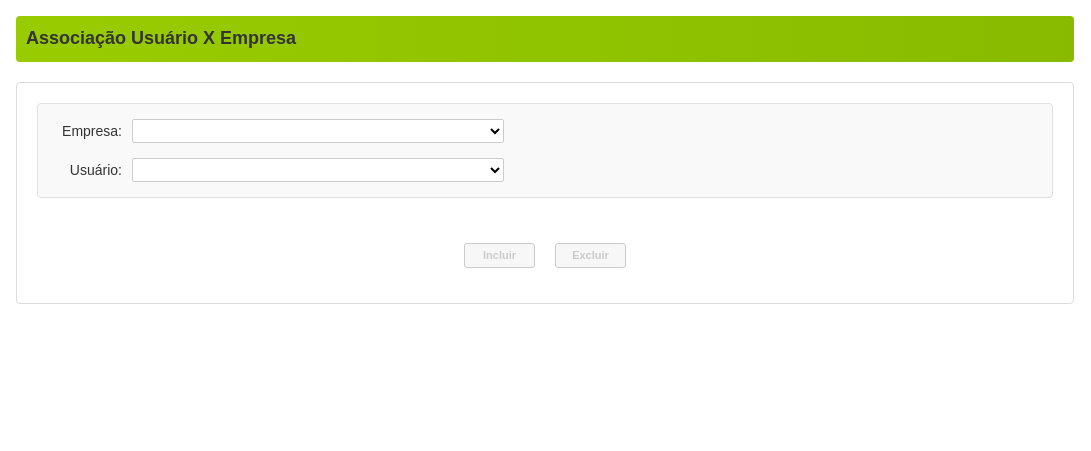
UserAssociation Component › Exibição de Associações › deve exibir cabeçalhos da tabela
Select "1" in the dropdown next to "Empresa:". click: (318, 131)
box: [132,119,504,143]
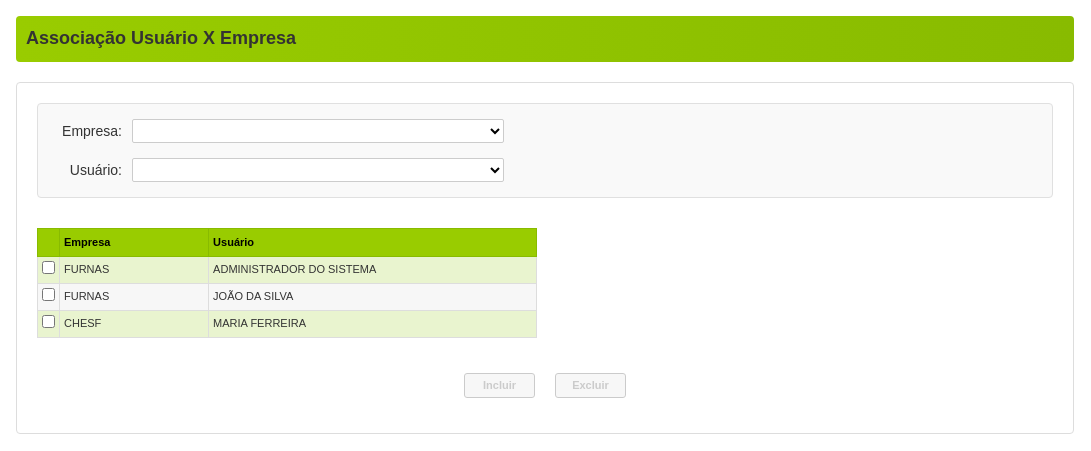
Expected: the column heading "Empresa" is shown, [60,228,209,257]
Expected: the column heading "Usuário" is shown, [209,228,536,257]
